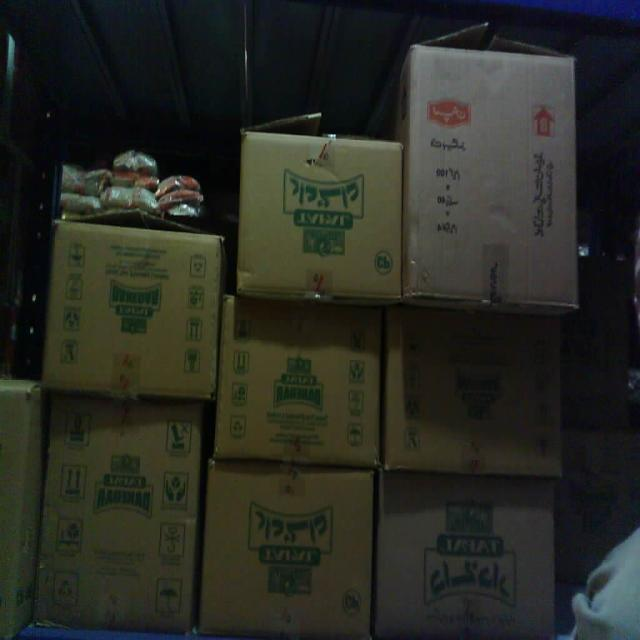box: (404, 53, 573, 303), (31, 403, 207, 623), (383, 313, 567, 473), (374, 482, 558, 640), (41, 235, 217, 400), (204, 472, 374, 633), (217, 300, 384, 463), (233, 138, 397, 295)
